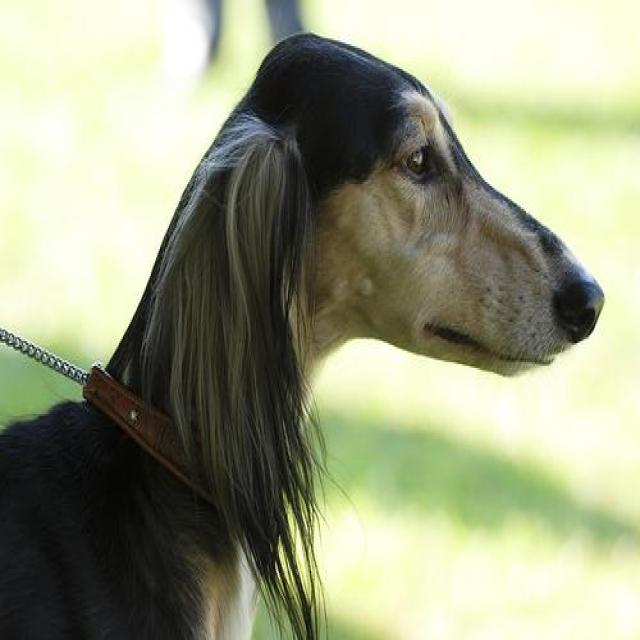saluki: (0, 30, 609, 638)
